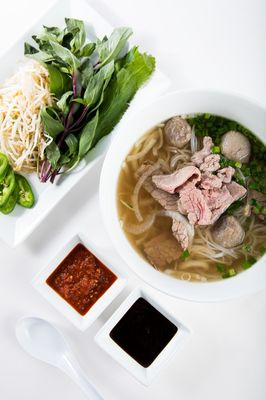salad: (15, 316, 106, 400)
sushi: (97, 106, 266, 303)
